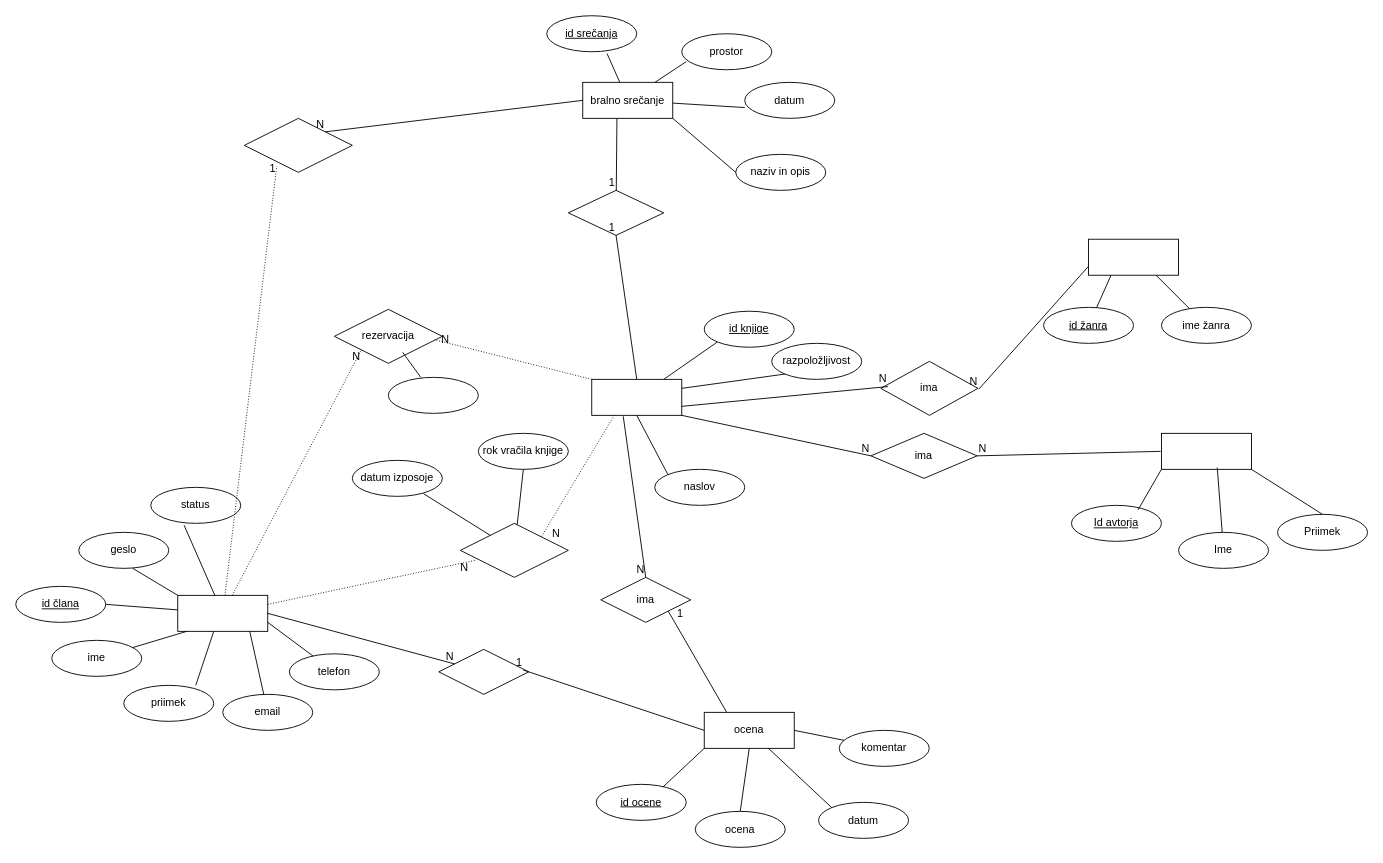
This 1383x863 diagram has some shape labels left out. Here are the shapes that lost their labels. From the top down, the centre of each, then its label:
At point 297,144: "udeležba".
At point 615,212: "obravnavana".
At point 1133,256: "žanr".
At point 432,394: "datum rezervacije".
At point 636,396: "knjiga".
At point 1206,450: "Avtor".
At point 513,549: "izposoja".
At point 222,612: "član".
At point 483,671: "poda".
